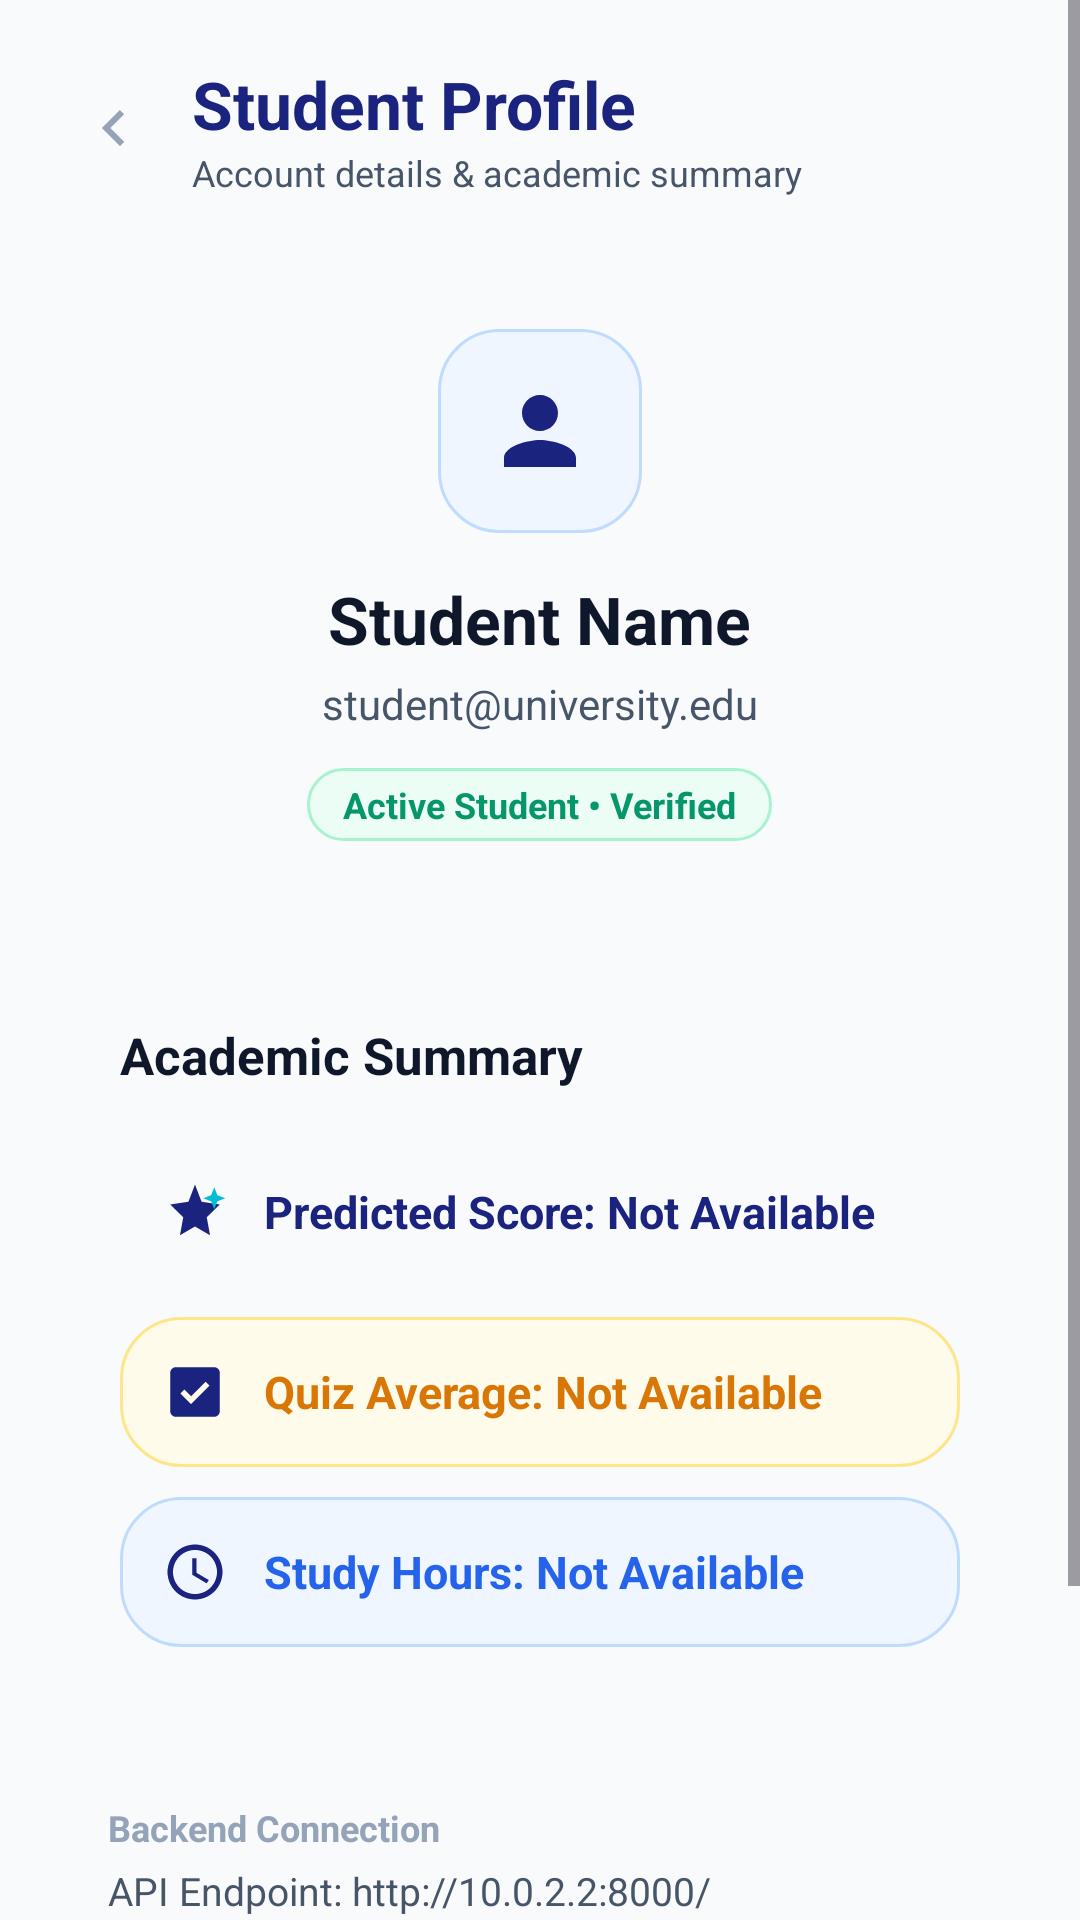

Screen size 1080x1920. Icon name, then its box in pixels as (x1, y1, x2, y2):
Avatar: (438, 329, 642, 533)
time: (167, 1544, 223, 1600)
